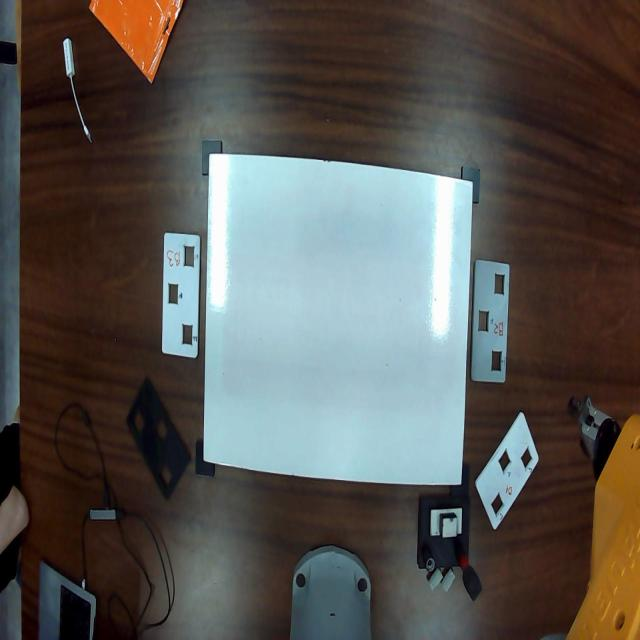default_frame: (203, 153, 473, 484)
